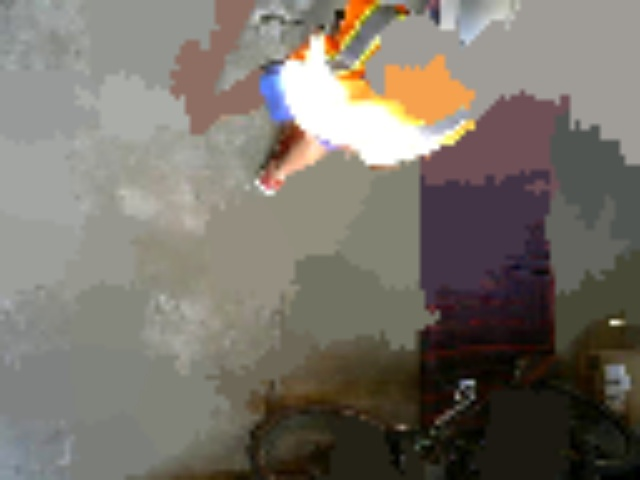two: (493, 36, 537, 71)
